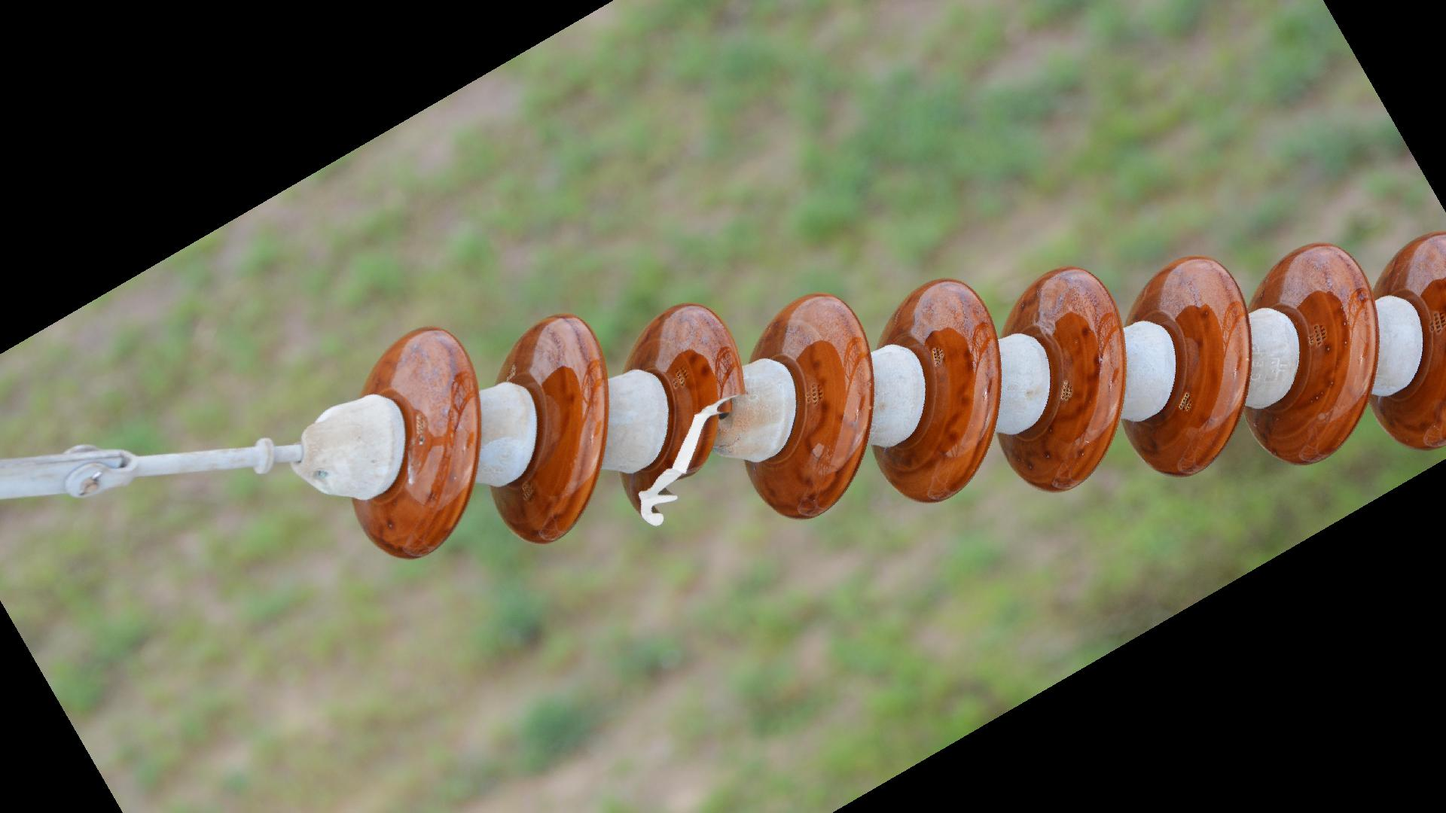insulator: (347, 225, 1446, 568)
insulator_breakage: (629, 383, 750, 534)
